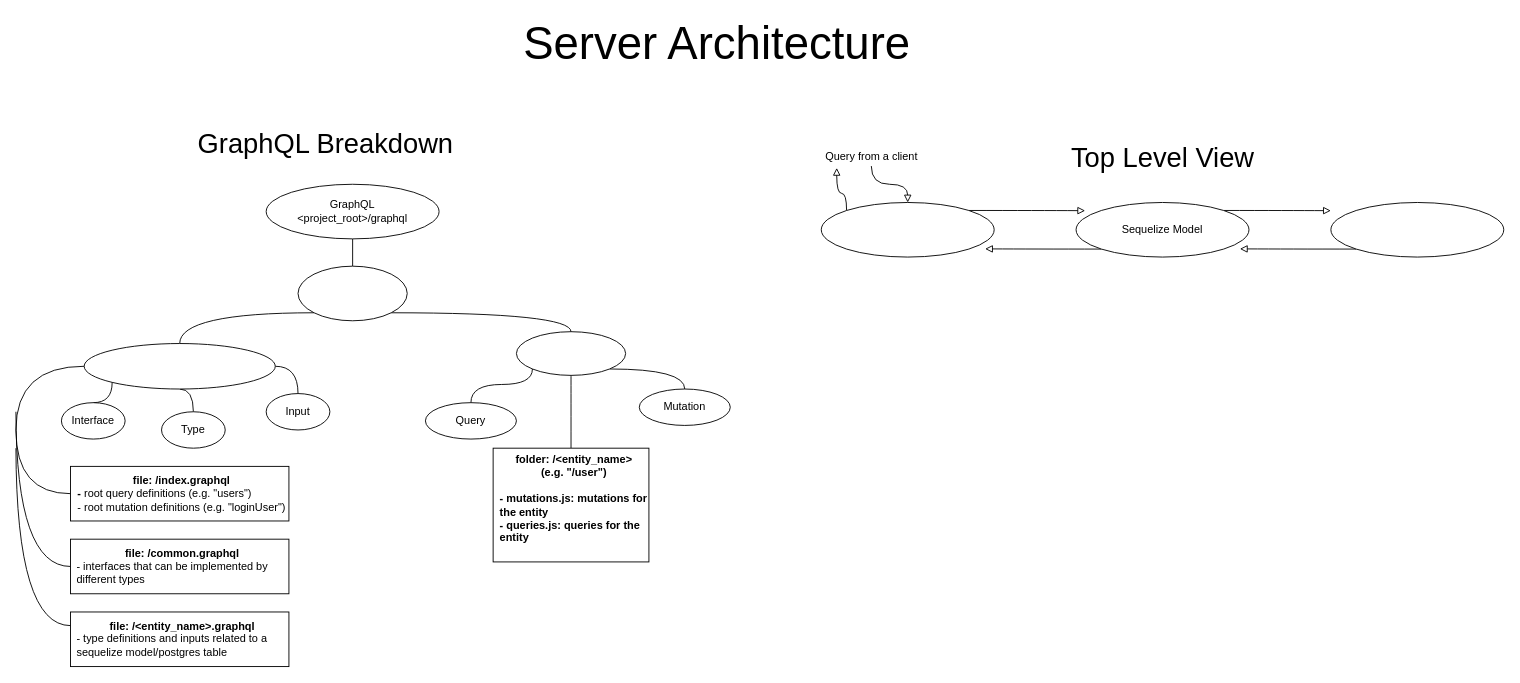
This 1520x683 diagram has some shape labels left out. The centre of each missing label's shape, as x and y in pixels:
GraphQL Resolvers: the point at 907,229
PostgreSQL Database: the point at 1417,229
Resolvers graphql/resolvers: the point at 571,353
Schema (schema.js): the point at 352,293
Type Definitions graphql/typedefs: the point at 179,366
